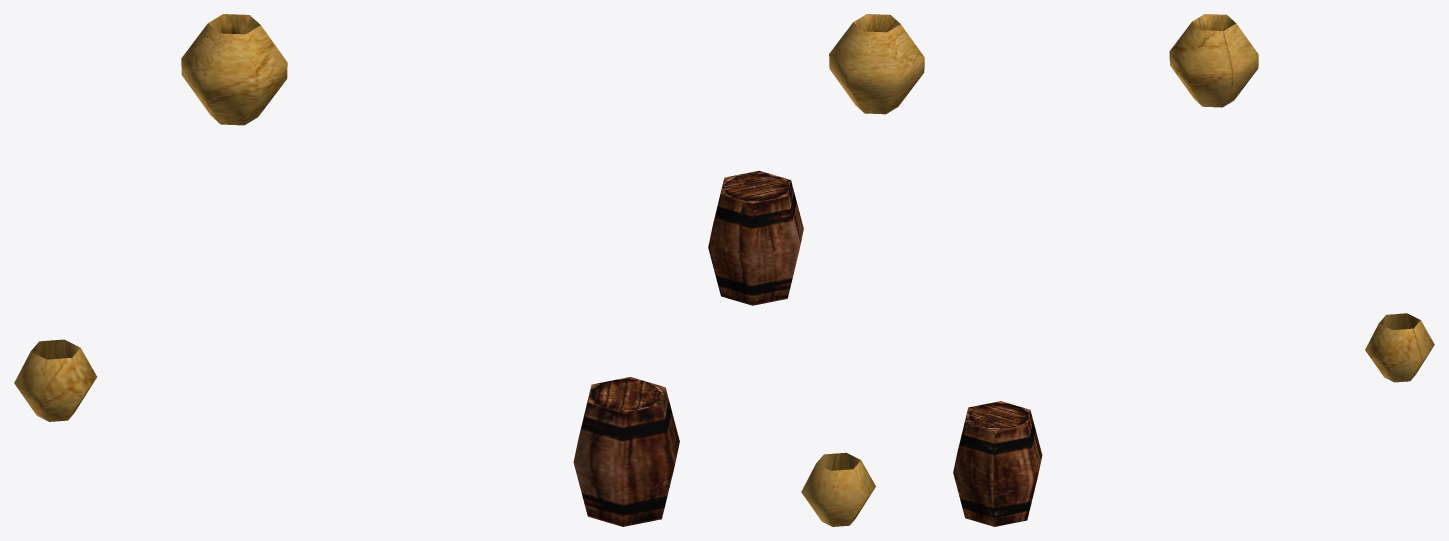
The model's file is pers_house_c_2.dae.
3 renders of one model, left to right at view 1: azimuth 30°, elevation 25°; view 2: azimuth 150°, elevation 25°; view 3: azimuth 270°, elevation 25°, orthographic. The views are drawn at different scales.
Visible parts, largest first — view 1: Object32-Pivot; view 2: Object32-Pivot; view 3: Object32-Pivot.
Boxes of the visible parts, x1,y1,x2,y2 form: Object32-Pivot: (14, 14, 679, 526); Object32-Pivot: (708, 14, 924, 526); Object32-Pivot: (953, 14, 1434, 526).
Bounding box in the file's own units: 7.12 × 8.5 × 7.43.
